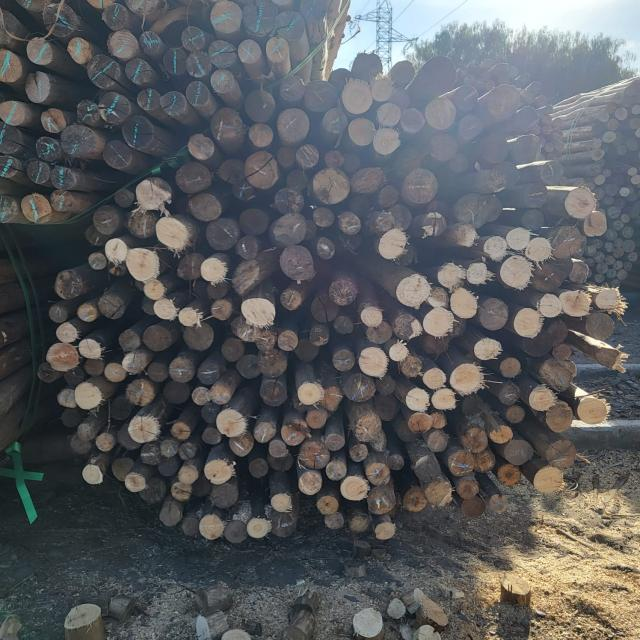package: (40, 59, 610, 545), (0, 0, 348, 226), (584, 73, 638, 207), (588, 206, 640, 299)
